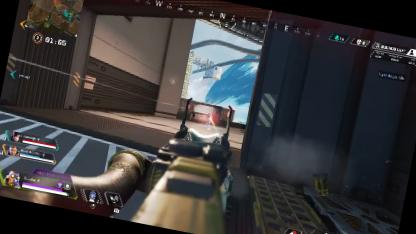Target: (204, 111, 214, 125)
